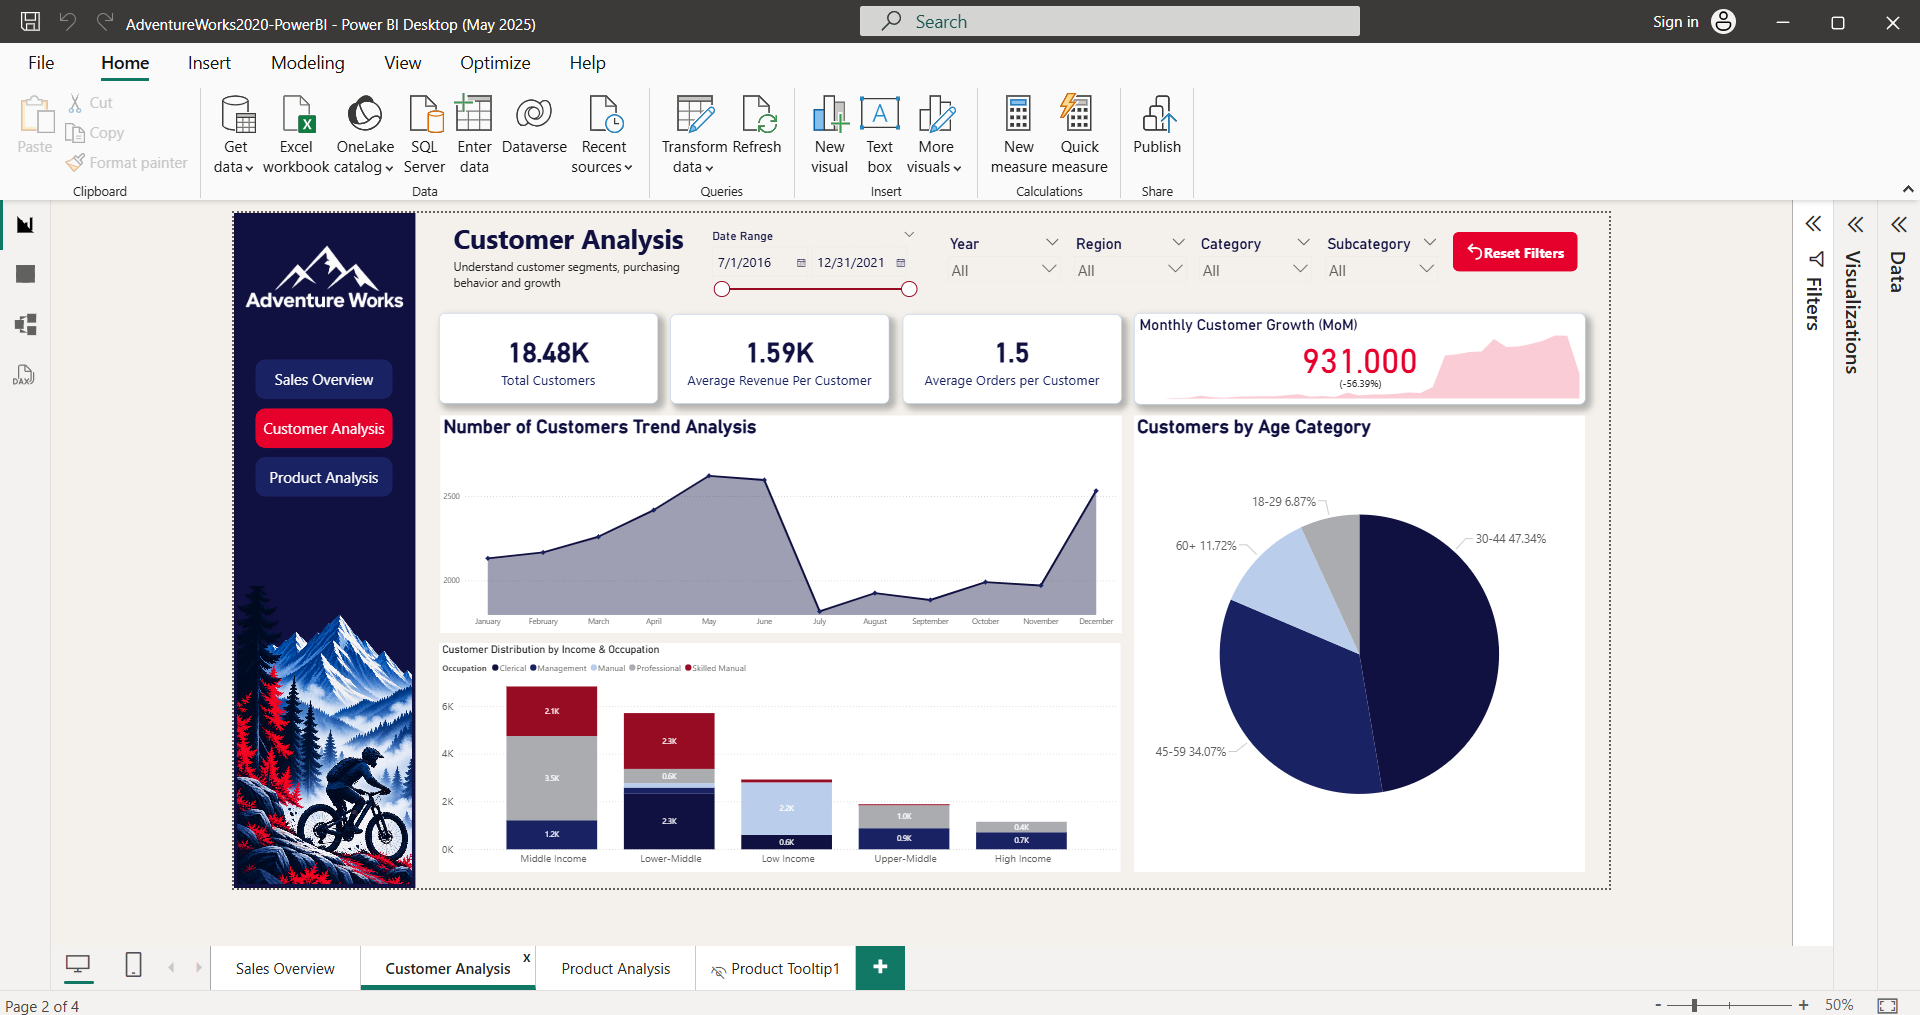

This screenshot's page, from the dashboard's own definition file:
{"tool":"powerbi","page":{"name":"Customer Analysis","canvas":[2200,1080],"ordinal":1},"visuals":[{"type":"shape","box":[0,0,290,1080],"z":0},{"type":"textbox","box":[345,6.4,406.8,87.3],"z":2000},{"type":"textbox","box":[345,68.2,406.8,63.9],"z":3000},{"type":"card","fields":{"Values":["My Measures.# Total Customers"]},"box":[327.4,159.7,350,144.8],"z":5000},{"type":"card","fields":{"Values":["My Measures.$ Average Revenue Per Customer"]},"box":[698.5,162.7,350,143.1],"z":7000},{"type":"card","fields":{"Values":["My Measures.# Avg Orders per Customer"]},"box":[1069.6,162.7,350,143.1],"z":9000},{"type":"slicer","fields":{"Values":["Calendar.Date"]},"box":[751.8,19.2,349.3,161.9],"z":11000},{"type":"slicer","title":"Year","fields":{"Values":["Calendar.CalendarYear"]},"box":[1132.9,30.8,200,100],"z":13000},{"type":"slicer","title":"Year","fields":{"Values":["Territory.Region"]},"box":[1333.6,30.8,200,100],"z":14000},{"type":"slicer","title":"Year","fields":{"Values":["Budget.Category"]},"box":[1534.3,30.8,200,100],"z":15000},{"type":"slicer","title":"Year","fields":{"Values":["Products.SubCategory"]},"box":[1735.1,30.8,200,100],"z":16000},{"type":"actionButton","box":[1950.8,29.8,200.2,63.9],"z":17000},{"type":"kpi","title":"Monthly Customer Growth (MoM)","fields":{"Indicator":["My Measures.# Total Customers"],"Goal":["My Measures.# Customers PM"],"TrendLine":["Calendar.Month Start"]},"box":[1440,160,722,146],"z":18000},{"type":"lineChart","title":"Number of Customers Trend Analysis","fields":{"Category":["Calendar.Date.Variation.Date Hierarchy.Year","Calendar.Date.Variation.Date Hierarchy.Quarter","Calendar.Date.Variation.Date Hierarchy.Month","Calendar.Date.Variation.Date Hierarchy.Day"],"Y":["My Measures.# Total Customers"]},"box":[330,323.3,1090,348.3],"z":19000},{"type":"pieChart","title":"Customers by Age Category","fields":{"Category":["Customers.Age Category"],"Y":["My Measures.# Total Customers"]},"box":[1440,323.3,721.7,730],"z":20000},{"type":"columnChart","title":"Customer Distribution by Income & Occupation","fields":{"Category":["Customers.Income Level"],"Y":["My Measures.# Total Customers"],"Series":["Customers.Occupation"]},"box":[328,688,1090,366],"z":21000},{"type":"image","box":[0,0,289,200.4],"z":22000},{"type":"image","box":[0,592.9,290,487],"z":23000},{"type":"pageNavigator","box":[34,234,220,222],"z":24000}]}

Visuals, with their boxes on the page's 2200x1080 design canvas (x1, y1, x2, y2). These are canvas units, not pixel positions in the 1920x1015 screenshot, which may show the page scaled, cropped or inside an application window:
shape: <region>0, 0, 290, 1080</region>
textbox: <region>345, 6, 752, 94</region>
textbox: <region>345, 68, 752, 132</region>
card - My Measures.# Total Customers: <region>327, 160, 677, 304</region>
card - My Measures.$ Average Revenue Per Customer: <region>698, 163, 1048, 306</region>
card - My Measures.# Avg Orders per Customer: <region>1070, 163, 1420, 306</region>
slicer - Calendar.Date: <region>752, 19, 1101, 181</region>
"Year" slicer: <region>1133, 31, 1333, 131</region>
"Year" slicer: <region>1334, 31, 1534, 131</region>
"Year" slicer: <region>1534, 31, 1734, 131</region>
"Year" slicer: <region>1735, 31, 1935, 131</region>
actionButton: <region>1951, 30, 2151, 94</region>
"Monthly Customer Growth (MoM)" kpi: <region>1440, 160, 2162, 306</region>
"Number of Customers Trend Analysis" lineChart: <region>330, 323, 1420, 672</region>
"Customers by Age Category" pieChart: <region>1440, 323, 2162, 1053</region>
"Customer Distribution by Income & Occupation" columnChart: <region>328, 688, 1418, 1054</region>
image: <region>0, 0, 289, 200</region>
image: <region>0, 593, 290, 1080</region>
pageNavigator: <region>34, 234, 254, 456</region>
